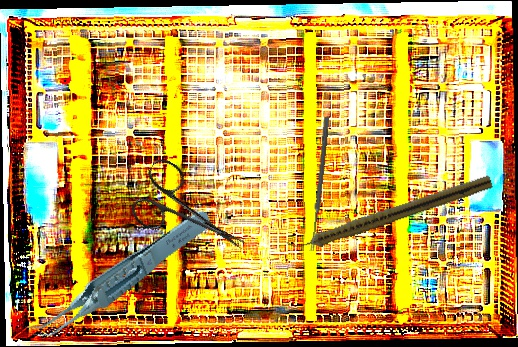Handpiece: (284, 170, 495, 258)
Iris Scissors: (123, 154, 262, 275)
Surgical Spoon: (309, 116, 330, 252)
Tissue Forceps: (7, 206, 228, 344)
